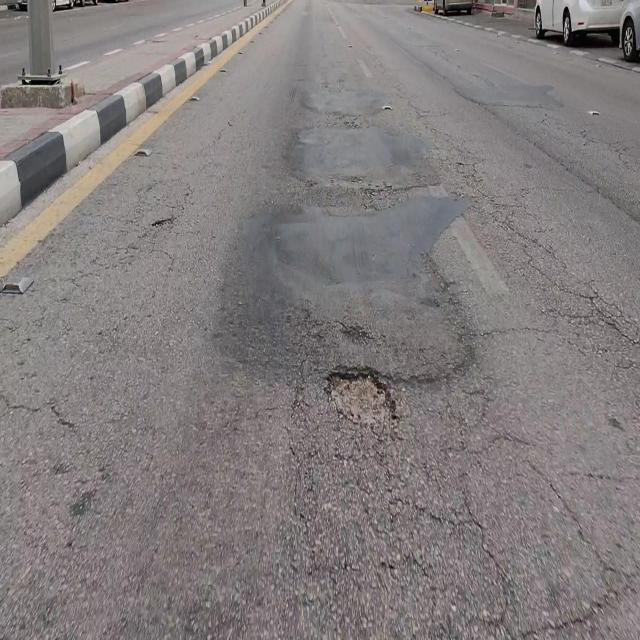Potholes: (327, 371, 396, 424)
